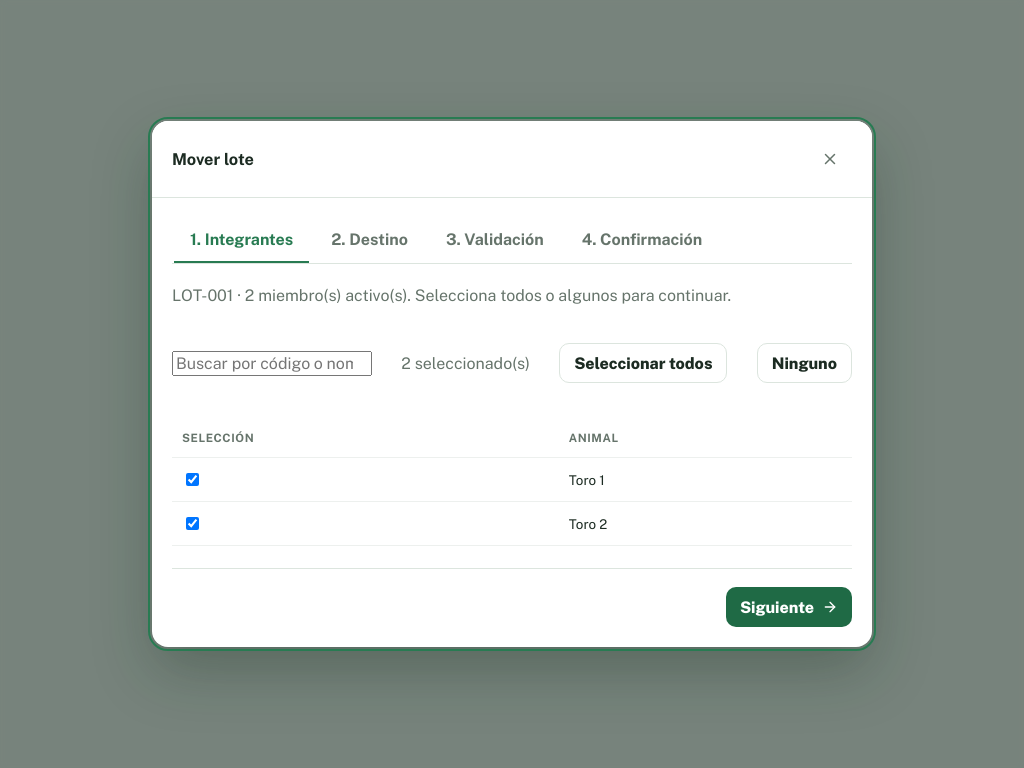
Test case: MoverLoteWizard › preselecciona todos los integrantes y permite avanzar
Expected: the text "Toro 1" is shown, [559, 458, 852, 502]
Expected: the text "2 seleccionado(s)" is shown, [401, 354, 530, 372]
Click the button "Siguiente" at [789, 607], box [726, 587, 852, 627]
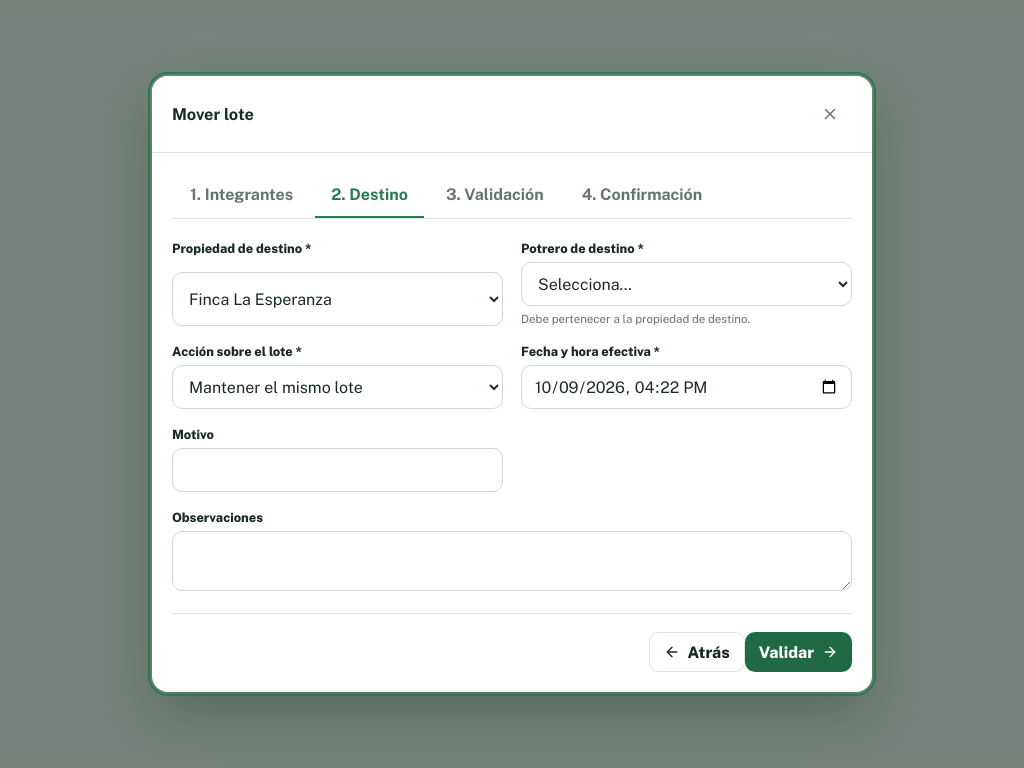
Now the dropdown labelled "Propiedad de destino *" is shown, box [173, 278, 502, 320]
